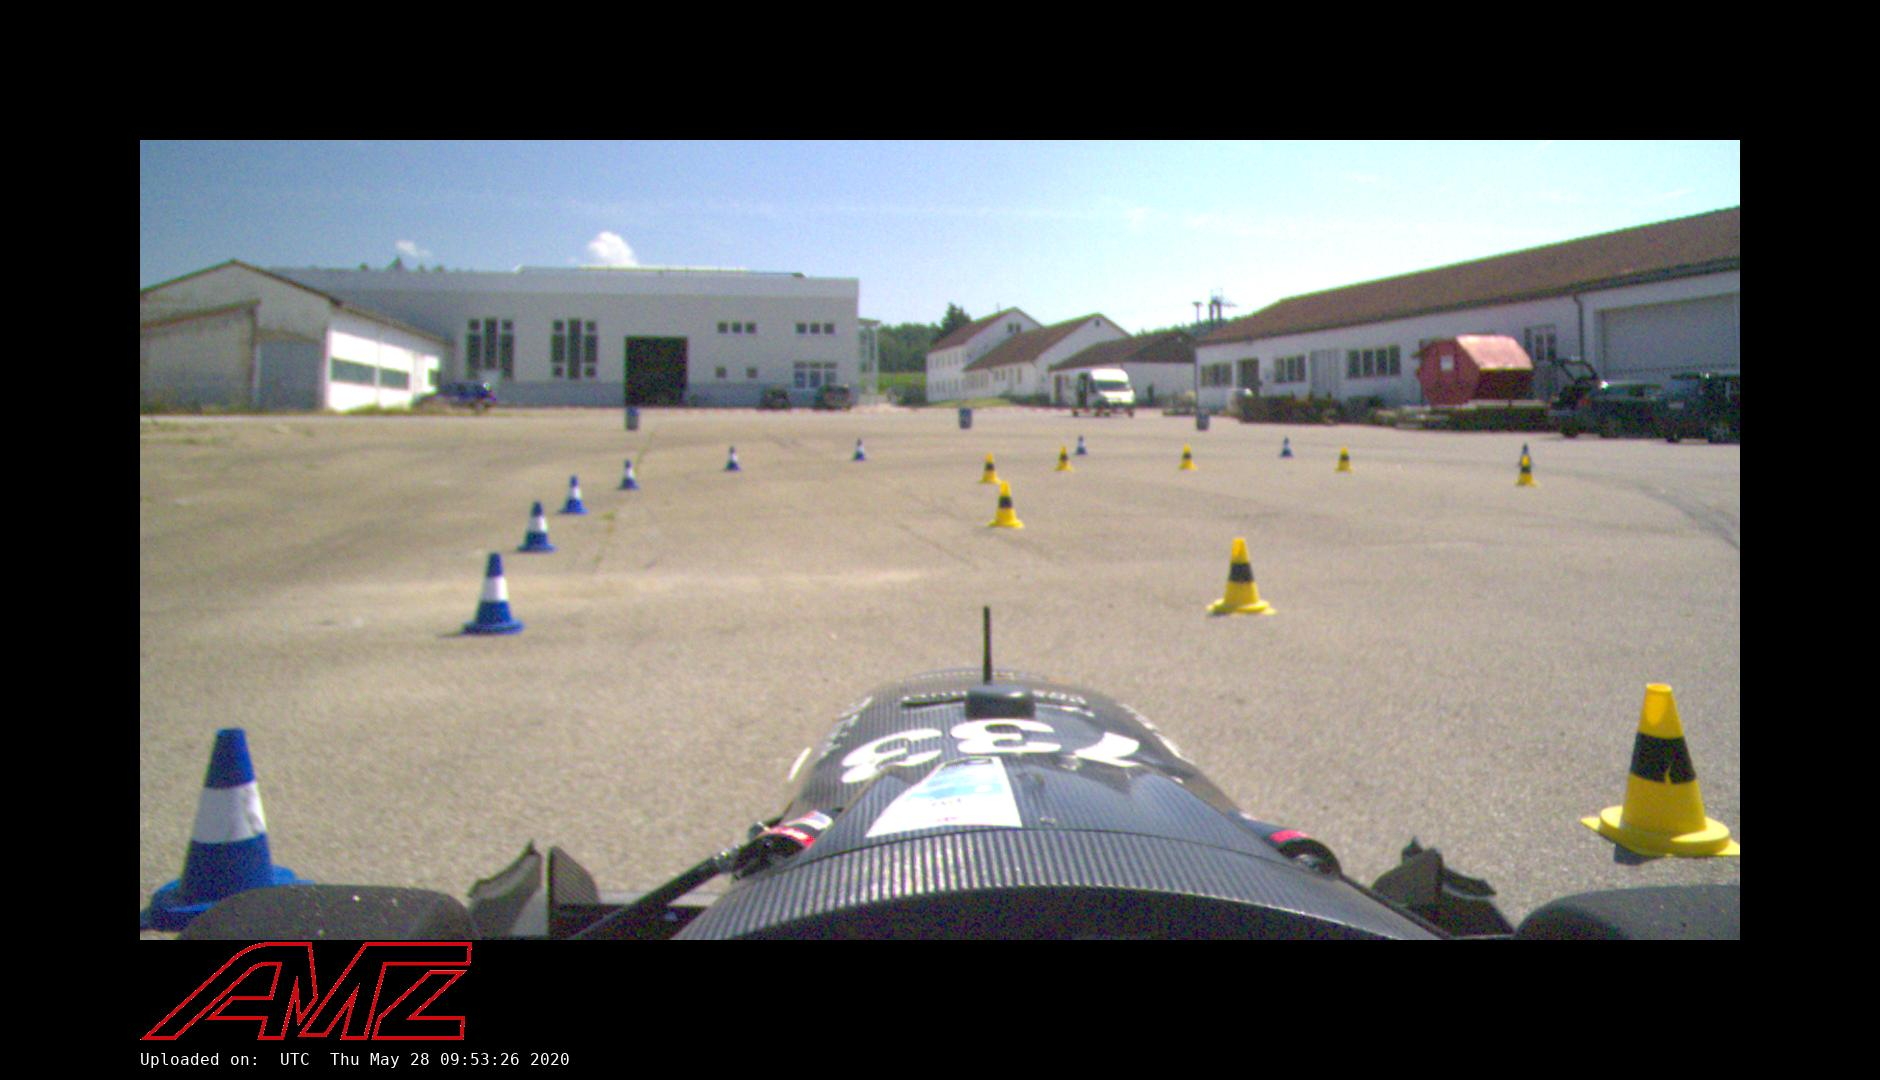blue_cone: (145, 727, 303, 937), (461, 553, 526, 638), (516, 503, 554, 553), (560, 475, 587, 515), (618, 459, 640, 491), (724, 446, 740, 472), (1517, 444, 1534, 466), (852, 438, 866, 462), (1073, 434, 1088, 455), (1280, 438, 1294, 459)
yellow_cone: (1580, 682, 1739, 857), (1205, 537, 1276, 616), (986, 481, 1025, 528), (1515, 456, 1537, 488), (979, 453, 1001, 484), (1054, 444, 1073, 472), (1178, 444, 1196, 470), (1335, 447, 1353, 472)
